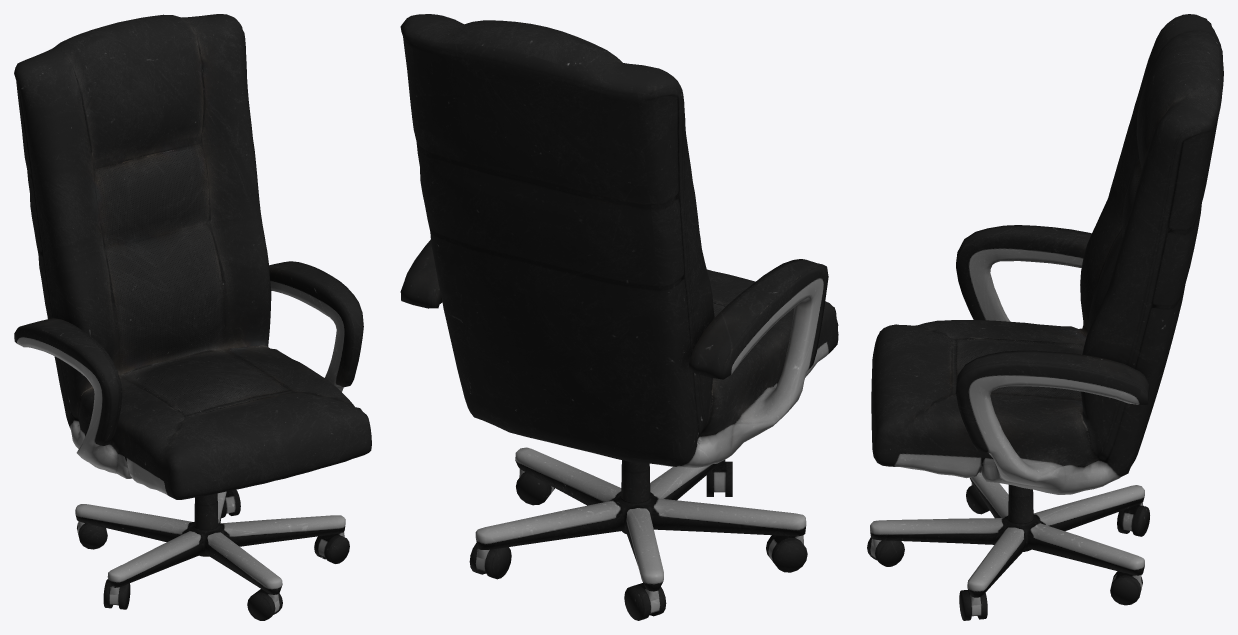
Rendered from office_chair.glb.
The picture shows the model from 3 angles, left to right: view 1: azimuth 30°, elevation 25°; view 2: azimuth 150°, elevation 25°; view 3: azimuth 270°, elevation 25°; orthographic projection. The views are drawn at different scales.
Parts seen in each view (by area): view 1: Box008; view 2: Box008; view 3: Box008.
Part boxes in pixels (x1,y1,x2,y2): Box008: [14, 14, 371, 620]; Box008: [400, 14, 838, 620]; Box008: [867, 14, 1223, 620].
Size of the model in its own units: 0.6951 by 1.2 by 0.7569.
1 material, 1 textured.
